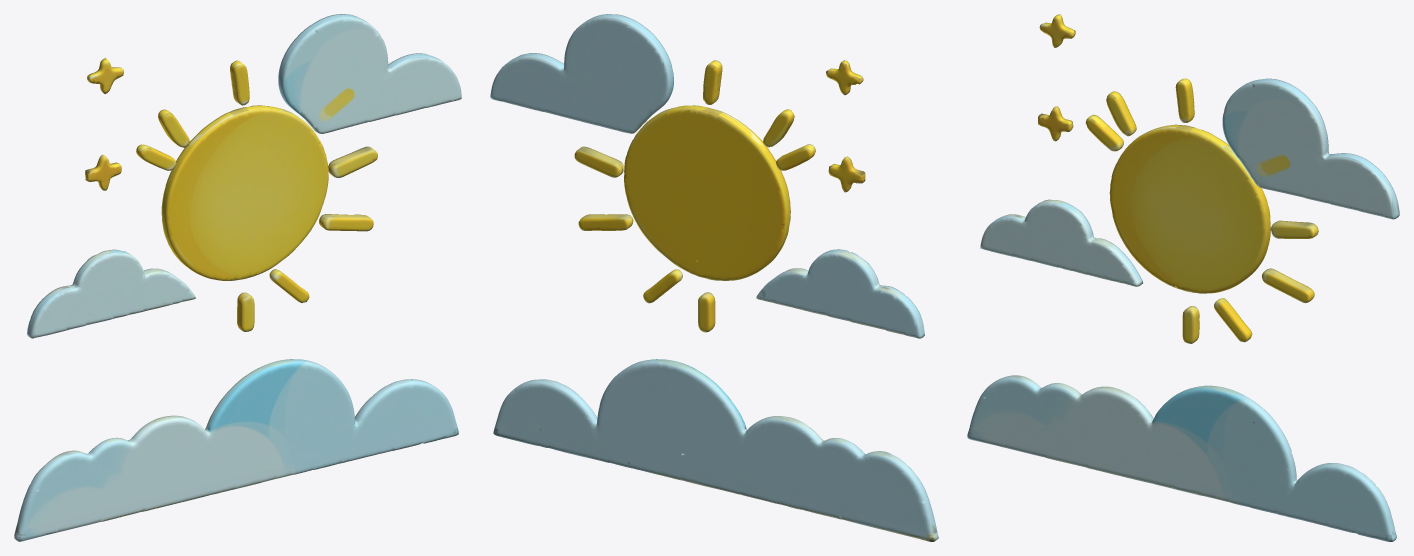
The model's file is sky.fbx.
3 renders of one model, left to right at view 1: azimuth 30°, elevation 25°; view 2: azimuth 150°, elevation 25°; view 3: azimuth 330°, elevation 25°, orthographic. The views are drawn at different scales.
Parts seen in each view (by area): view 1: Mesh_0; view 2: Mesh_0; view 3: Mesh_0.
Part boxes in pixels (<box>): Mesh_0: <box>14,14,461,541</box>; Mesh_0: <box>490,14,938,541</box>; Mesh_0: <box>967,14,1399,541</box>.
Bounding box in the file's own units: 192 × 190 × 4.73.
1 material, 1 textured.
